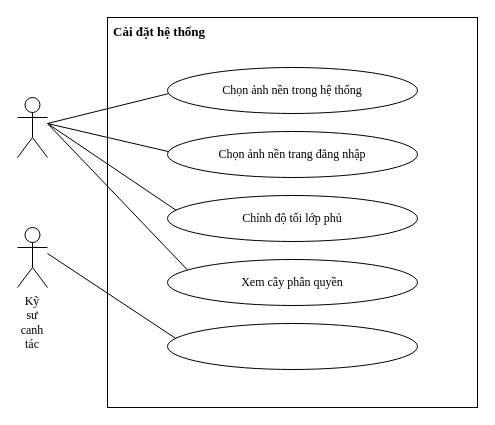
The diagram is 495 pixels wide and 425 high, and some of its shapes have lost their labels. Here are the shapes that lost their labels. From the top down, the centre of each, then its label:
At (32,127): "Quản trị hệ thống".
At (292,346): "Bật / tắt tưới tự động".
